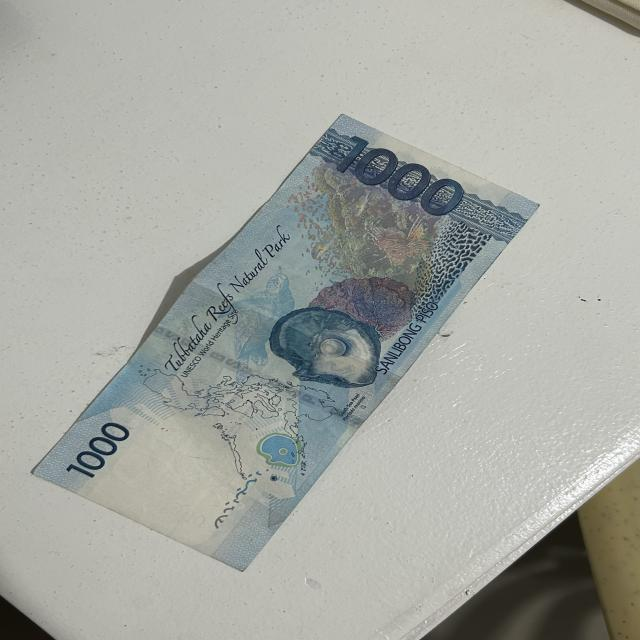1000_pearl: (277, 307, 378, 385)
1000_pearl_watermark: (260, 433, 305, 468)
